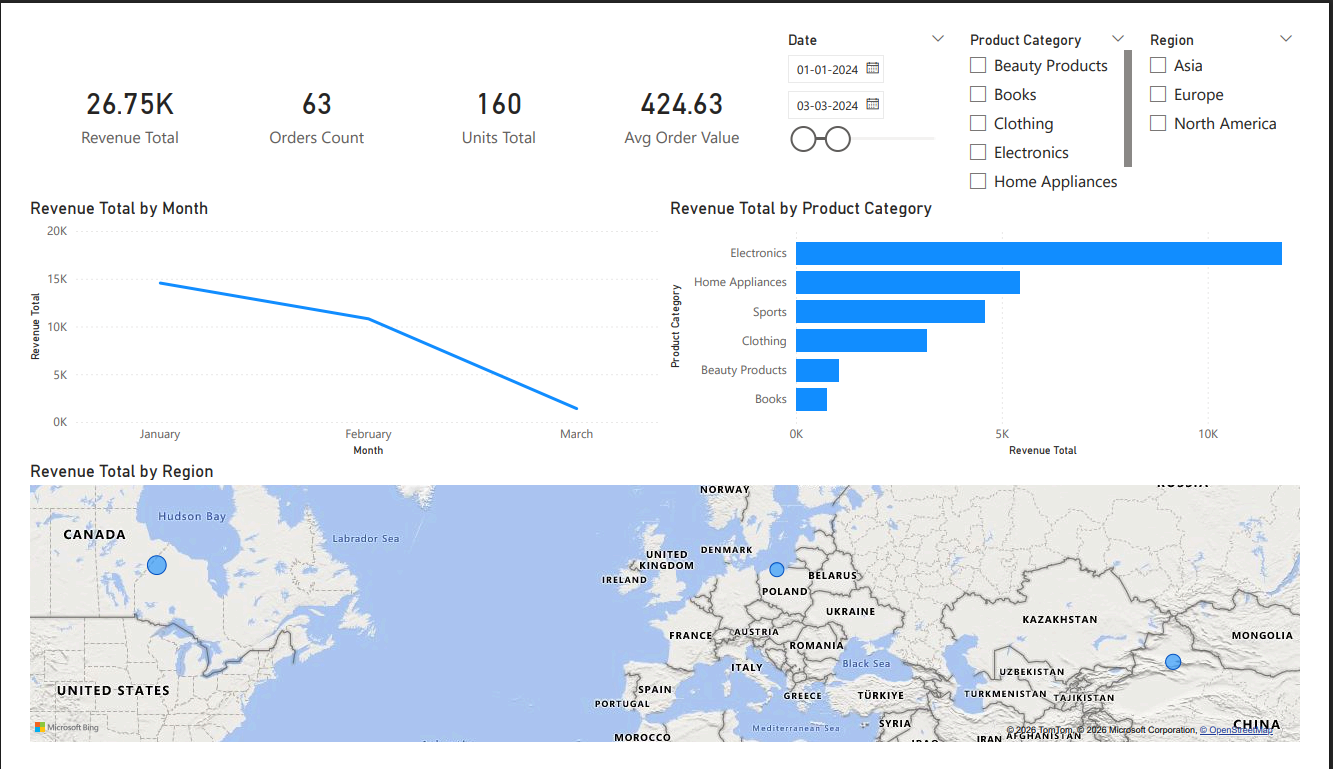

The page's visual inventory and layout, read from the dashboard file:
{"tool":"powerbi","page":{"name":"Page 1","canvas":[1280,720],"ordinal":0},"visuals":[{"type":"card","fields":{"Values":["Online Sales Data.Revenue Total"]},"box":[9.7,0,190.6,171.2],"z":0},{"type":"card","fields":{"Values":["Online Sales Data.Orders Count"]},"box":[200.4,0,183.8,171.2],"z":1000},{"type":"card","fields":{"Values":["Online Sales Data.Units Total"]},"box":[384.2,0,179.9,171.2],"z":2000},{"type":"card","fields":{"Values":["Online Sales Data.Avg Order Value"]},"box":[564.1,0,185.8,171.2],"z":3000},{"type":"lineChart","fields":{"Category":["Online Sales Data.Date.Variation.Date Hierarchy.Month"],"Y":["Online Sales Data.Revenue Total"]},"box":[0,171.2,640,262.6],"z":4000},{"type":"clusteredBarChart","fields":{"Category":["Online Sales Data.Product Category"],"Y":["Online Sales Data.Revenue Total"]},"box":[640,171.2,640,262.6],"z":5000},{"type":"map","fields":{"Category":["Online Sales Data.Region"],"Size":["Online Sales Data.Revenue Total"]},"box":[0,433.8,1280,286],"z":6000},{"type":"slicer","fields":{"Values":["Online Sales Data.Date"]},"box":[749.9,0,181.9,171.2],"z":6001},{"type":"slicer","fields":{"Values":["Online Sales Data.Product Category"]},"box":[931.8,0,179.9,171.2],"z":6002},{"type":"slicer","fields":{"Values":["Online Sales Data.Region"]},"box":[1112,0,168,171],"z":6003}]}

Visuals, with their boxes in screenshot pixels (x1, y1, x2, y2), scaled from the page's 1280x720 canvas onto the 1333x769 screenshot:
card - Online Sales Data.Revenue Total: {"x1": 10, "y1": 0, "x2": 209, "y2": 183}
card - Online Sales Data.Orders Count: {"x1": 209, "y1": 0, "x2": 400, "y2": 183}
card - Online Sales Data.Units Total: {"x1": 400, "y1": 0, "x2": 587, "y2": 183}
card - Online Sales Data.Avg Order Value: {"x1": 587, "y1": 0, "x2": 781, "y2": 183}
lineChart - Online Sales Data.Date.Variation.Date Hierarchy.Month x Online Sales Data.Revenue Total: {"x1": 0, "y1": 183, "x2": 666, "y2": 463}
clusteredBarChart - Online Sales Data.Product Category x Online Sales Data.Revenue Total: {"x1": 666, "y1": 183, "x2": 1332, "y2": 463}
map - Online Sales Data.Region x Online Sales Data.Revenue Total: {"x1": 0, "y1": 463, "x2": 1332, "y2": 768}
slicer - Online Sales Data.Date: {"x1": 781, "y1": 0, "x2": 970, "y2": 183}
slicer - Online Sales Data.Product Category: {"x1": 970, "y1": 0, "x2": 1158, "y2": 183}
slicer - Online Sales Data.Region: {"x1": 1158, "y1": 0, "x2": 1332, "y2": 183}
